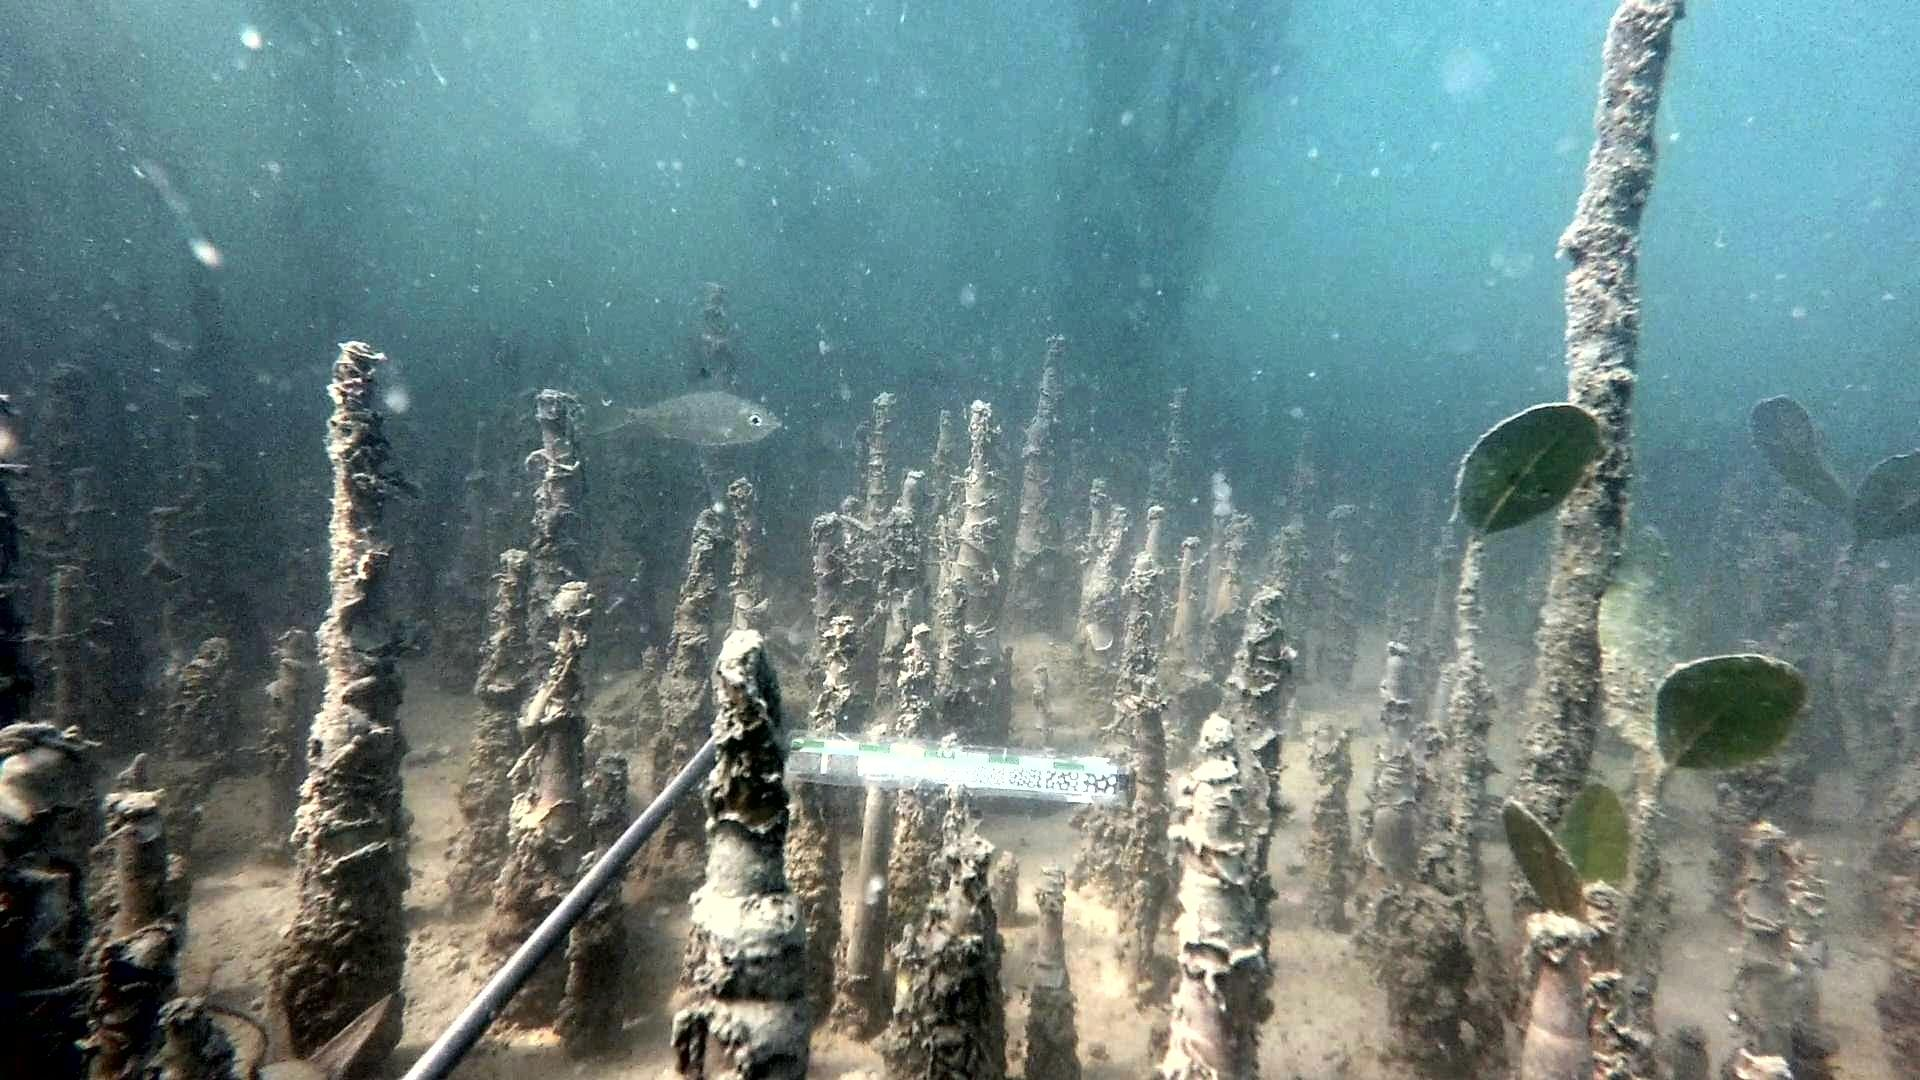gerres: (592, 366, 785, 448)
